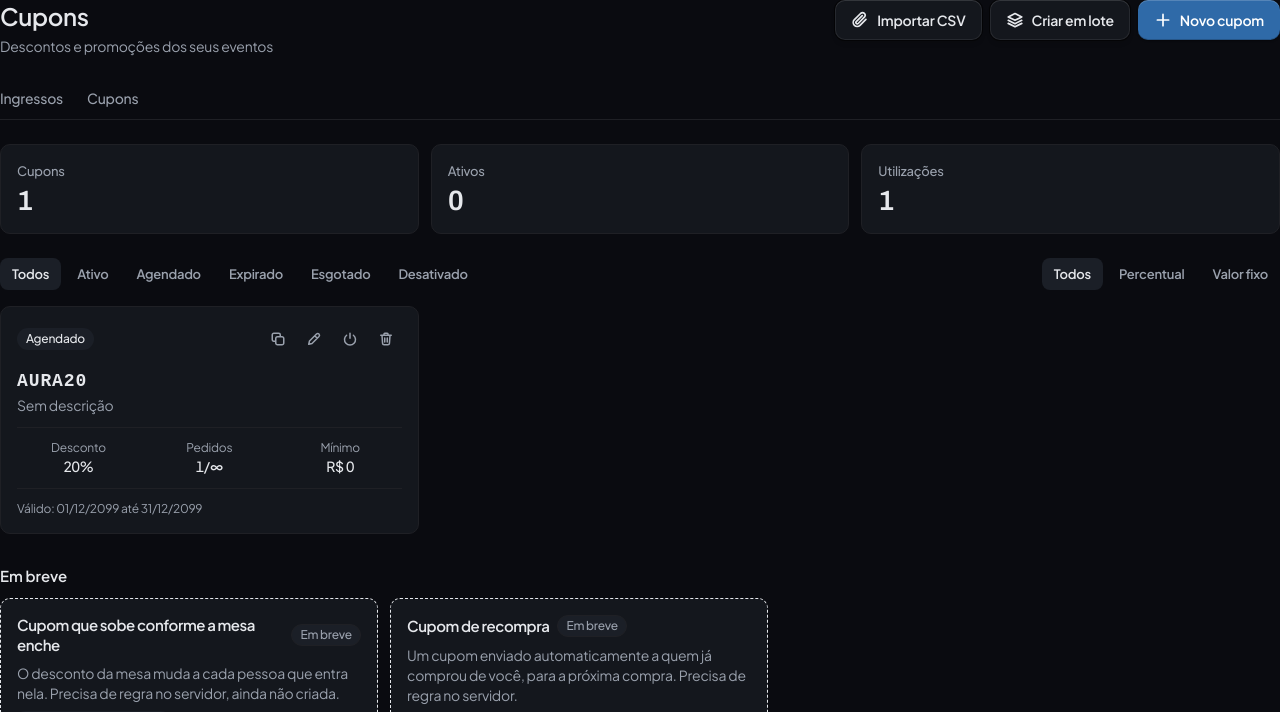
Test case: Cupons do produtor › cupom já usado trava tipo, valor e código
Click the button named "Editar AURA20" at [314, 339], box [298,323,330,355]
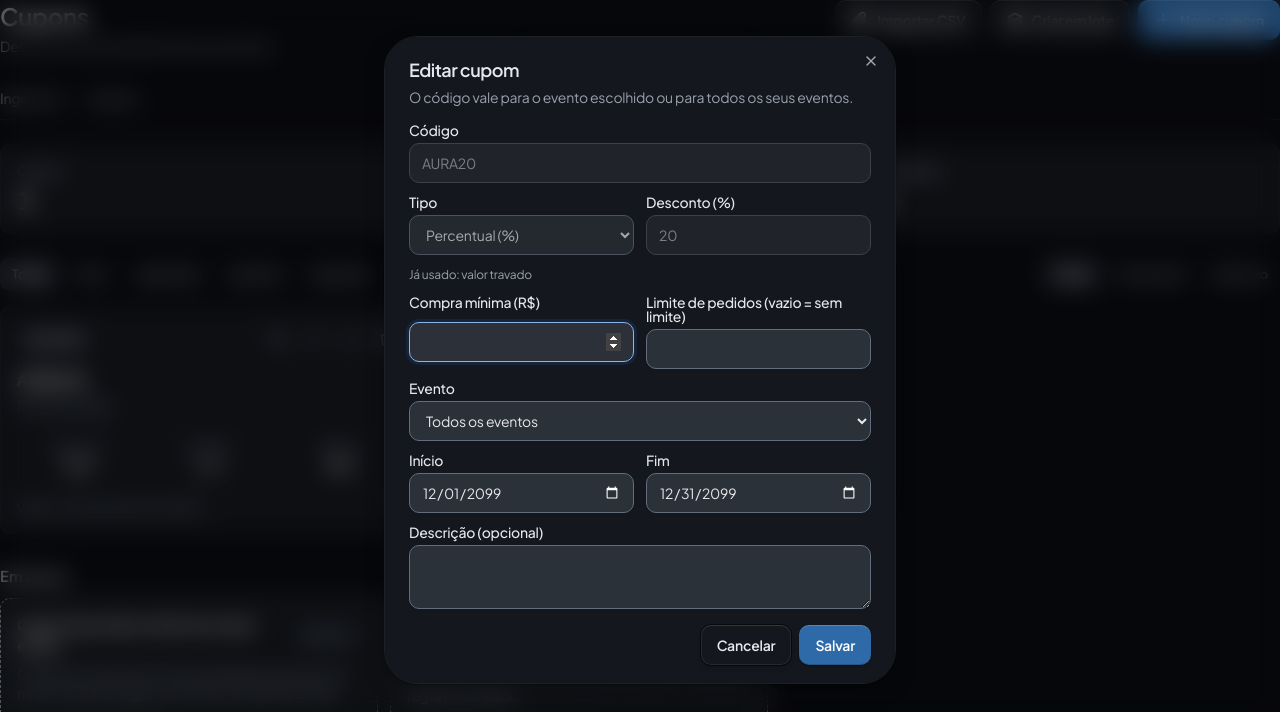
expect the field labelled "Código" is disabled: met, box [409,143,871,183]
expect the dropdown labelled "Tipo" is disabled: met, box [409,215,634,255]
expect the number field labelled "Desconto (%)" is disabled: met, box [646,215,871,255]
